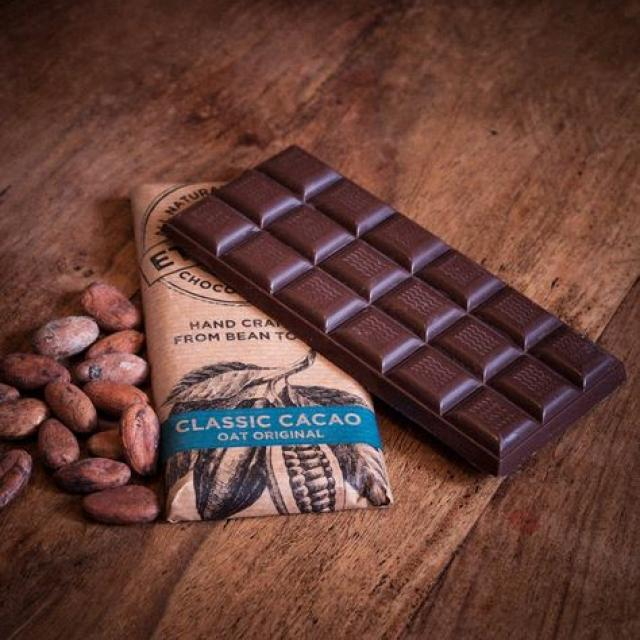Chocolate: (164, 145, 626, 479)
